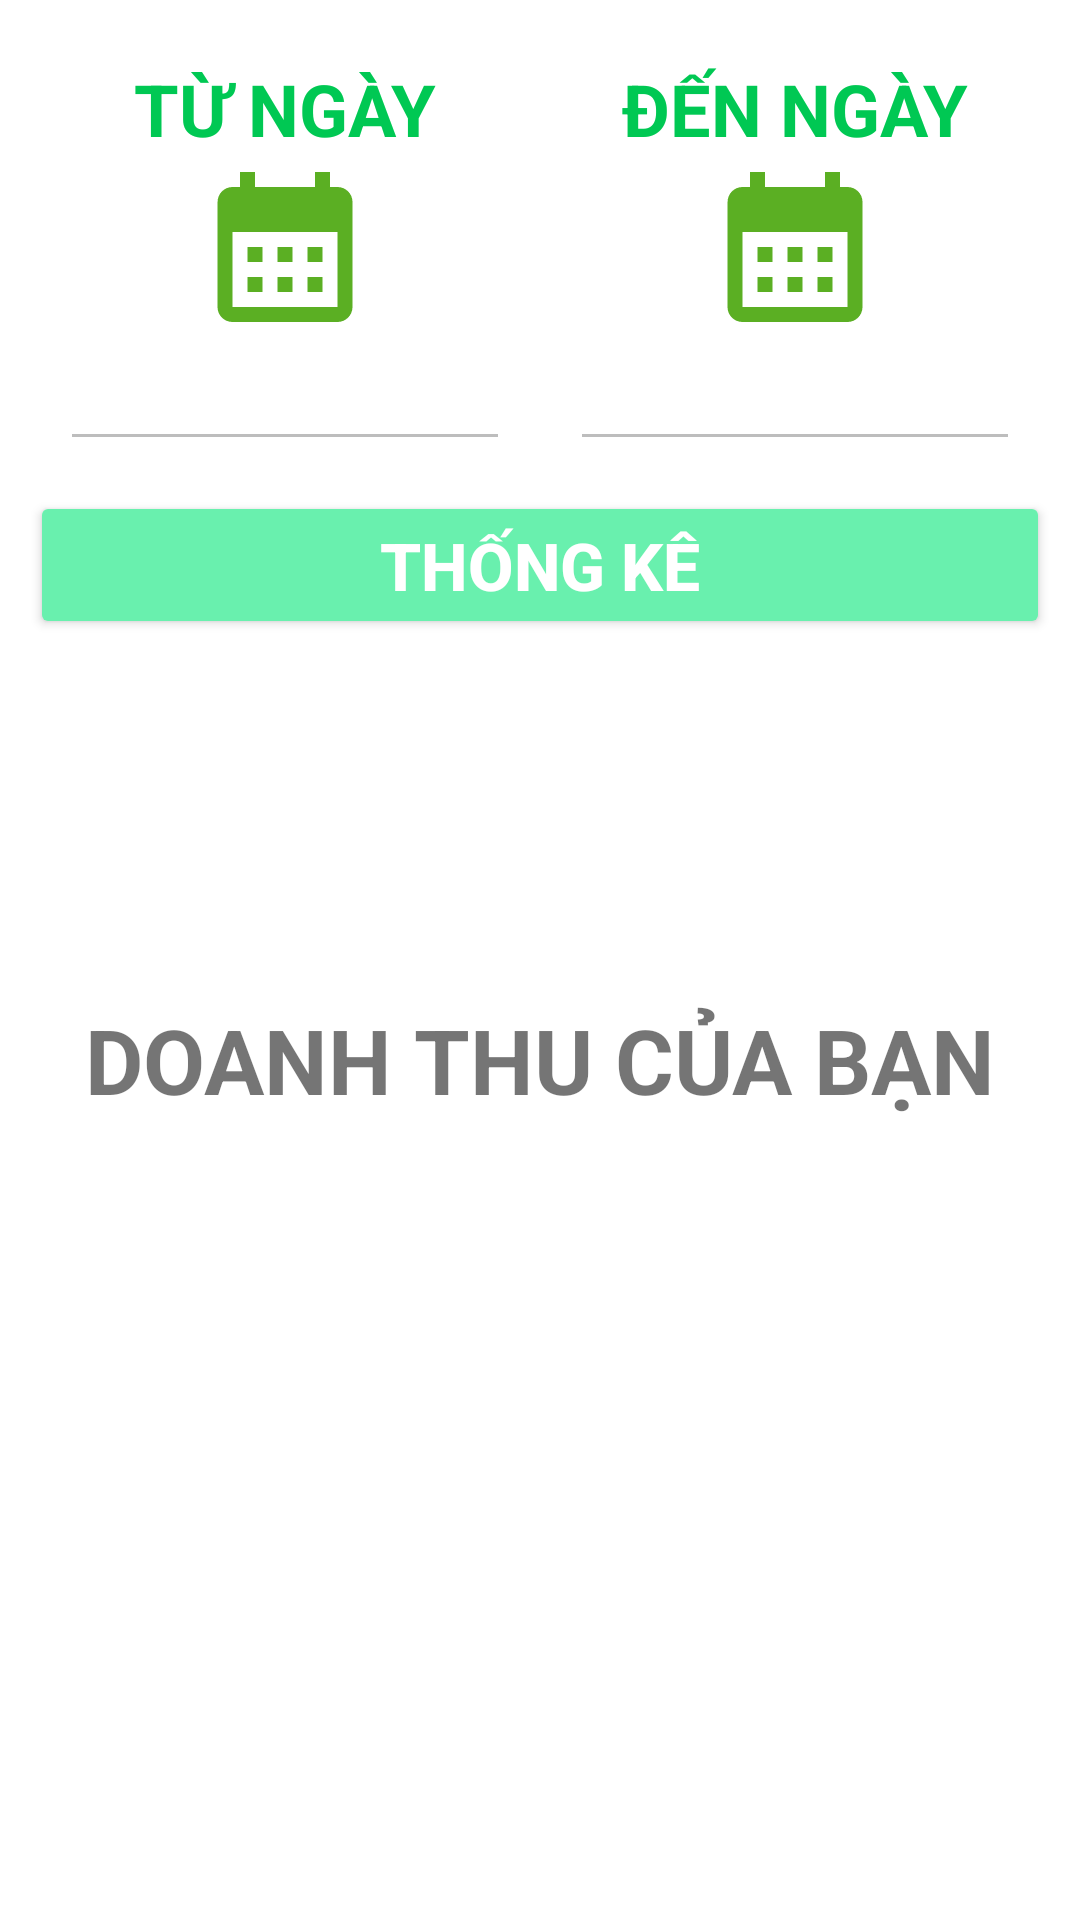

Point at icon controls on the screen. Image size 1080px x 1920px, points as [x,y].
calendar month: [285,247], [795,247]
